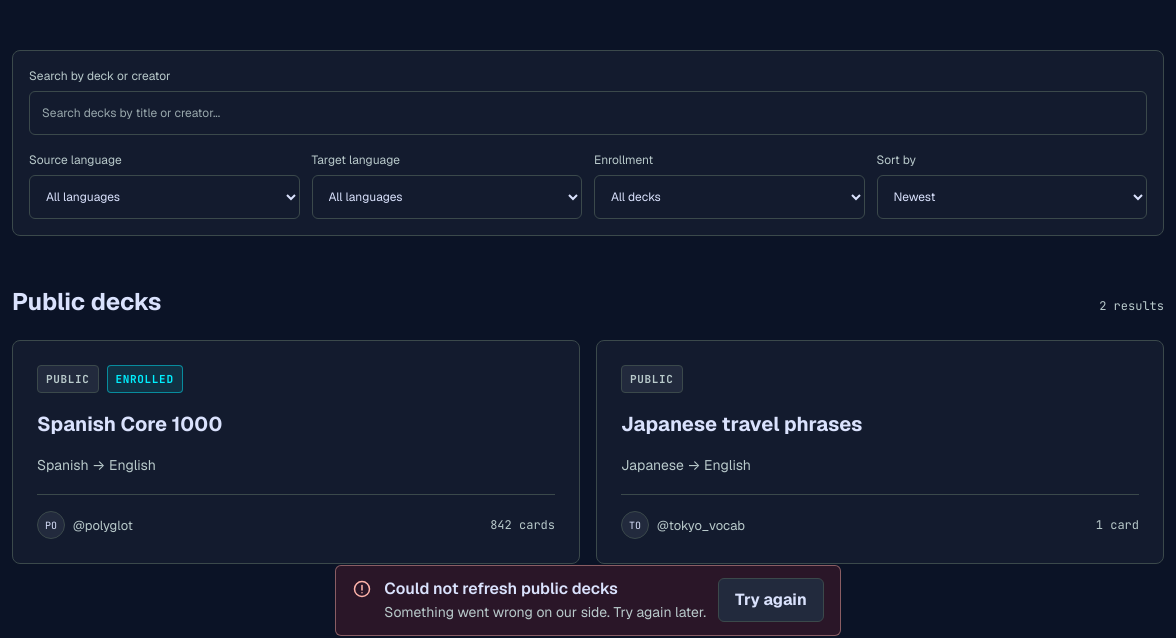
Test case: DiscoverPage › distinguishes a cached refresh failure and retries the refresh
(page scrolled)
Expected: the heading "Spanish Core 1000" is shown, x1=37 y1=411 x2=222 y2=437
Expected: the text "Could not refresh public decks" is shown, x1=384 y1=578 x2=618 y2=599
Click the button "Try again". click: x=771, y=600
box: x1=718 y1=578 x2=824 y2=622
(page scrolled)
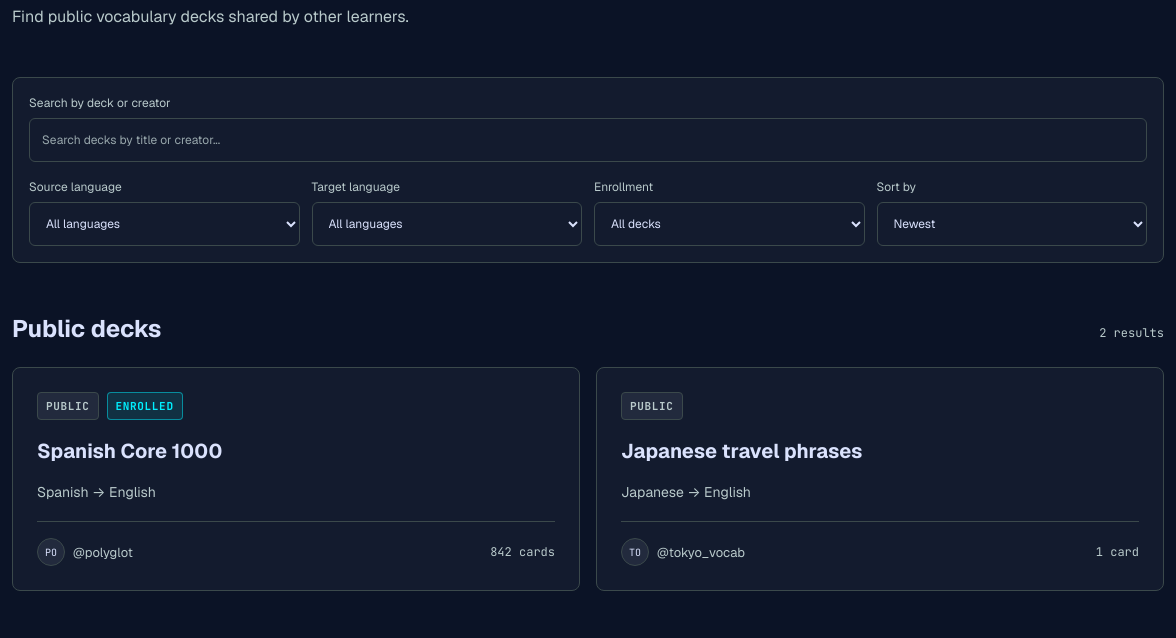
Expected: the text "Could not refresh public decks" is gone
